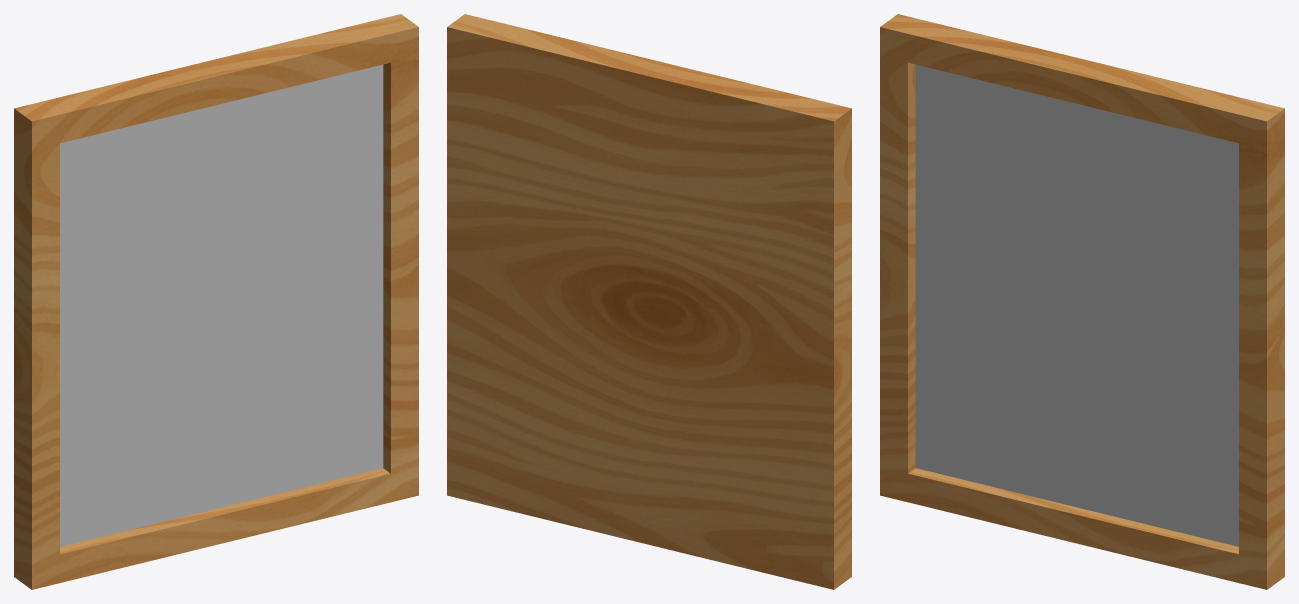
Rendered from Picture_Hang_5.fbx.
3 renders of one model, left to right at view 1: azimuth 30°, elevation 25°; view 2: azimuth 150°, elevation 25°; view 3: azimuth 330°, elevation 25°, orthographic.
Visible parts, largest first — view 1: Picture_Hang_5; view 2: Picture_Hang_5; view 3: Picture_Hang_5.
Boxes of the visible parts, x1=… form: Picture_Hang_5: x1=14, y1=14, x2=418, y2=589; Picture_Hang_5: x1=447, y1=14, x2=851, y2=589; Picture_Hang_5: x1=880, y1=14, x2=1284, y2=589.
Size of the model in its own units: 62.82 by 72.66 by 5.02.
